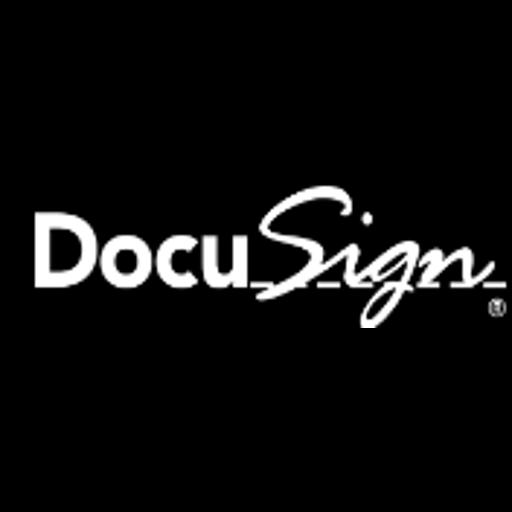DocuSign: (0, 183, 512, 328)
